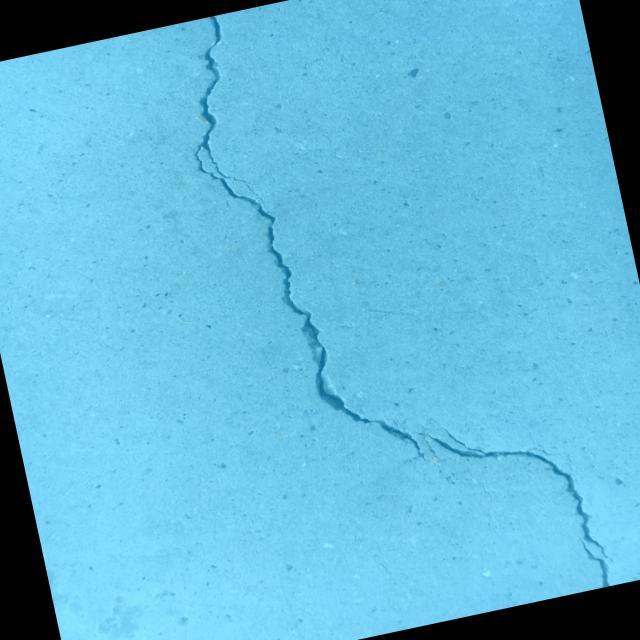crack: (166, 0, 427, 493), (415, 389, 618, 618), (480, 481, 494, 506)
